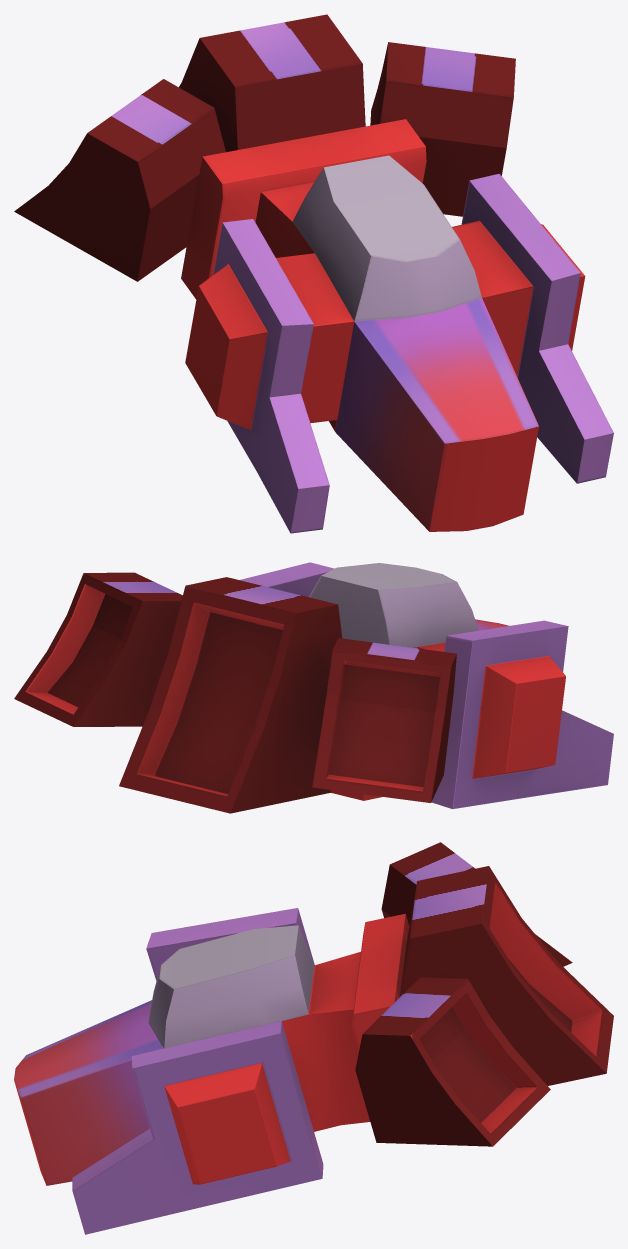
The model's file is Shank Enemy Body_Animation.FBX.
3 views of the same model, one above another, from view 1: azimuth 30°, elevation 25°; view 2: azimuth 150°, elevation 25°; view 3: azimuth 270°, elevation 25° (orthographic). The views are drawn at different scales.
Visible parts, largest first — view 1: Shank Body; view 2: Shank Body; view 3: Shank Body.
Part boxes in pixels (x1,y1,x2,y2): Shank Body: (14, 14, 613, 533); Shank Body: (14, 562, 613, 813); Shank Body: (14, 842, 613, 1234).
Bounding box in the file's own units: 45.28 × 29.69 × 55.92.
Materials: 1 (1 with a texture image).
